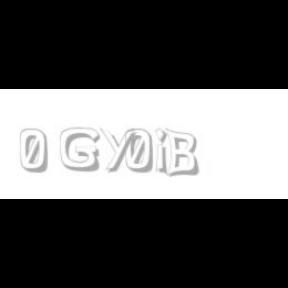0: (125, 128, 156, 174), (20, 128, 50, 174)
B: (165, 128, 199, 178)
G: (60, 128, 100, 172)
i: (155, 128, 171, 176)
y: (100, 128, 140, 172)
